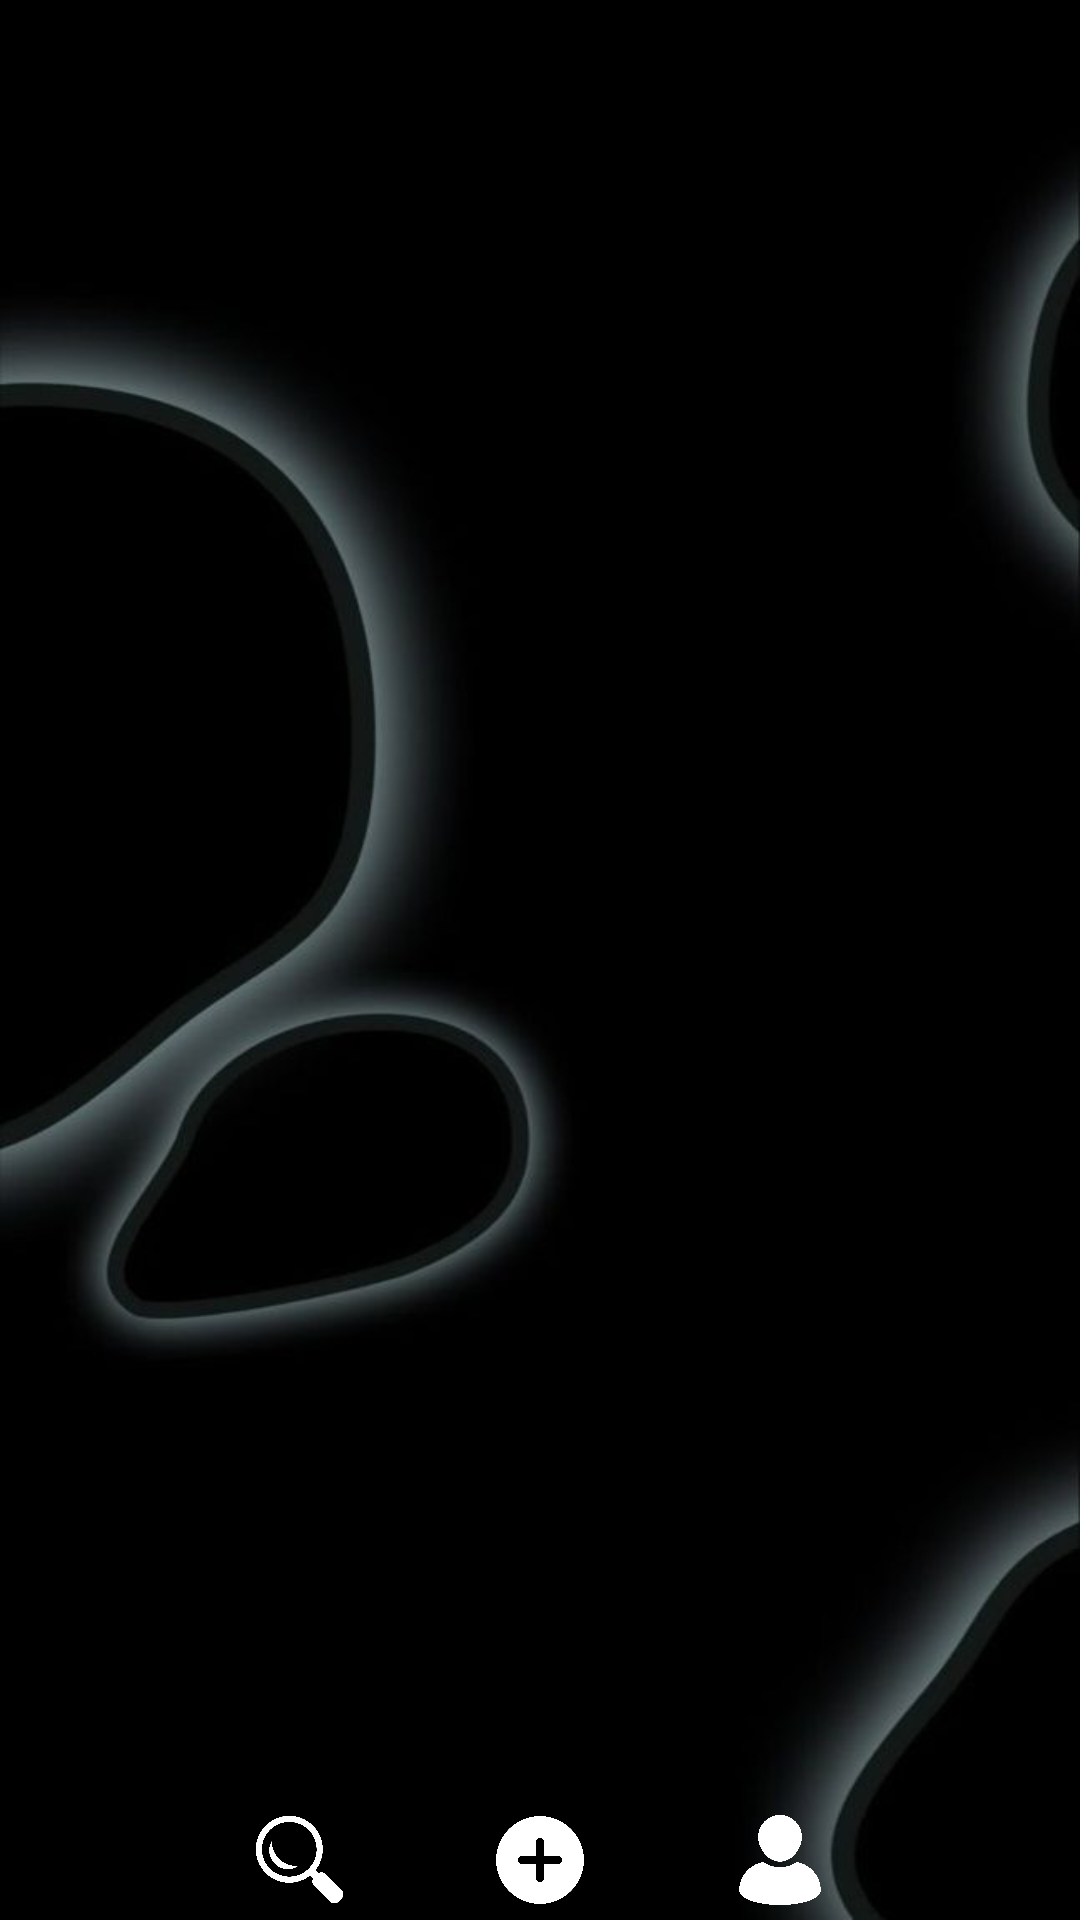

Where icons sit on this 1080 × 1920 app screen, as (x1, y1, x2, y2):
add: (496, 1816, 584, 1904)
profile: (739, 1800, 840, 1920)
search: (256, 1816, 343, 1903)
